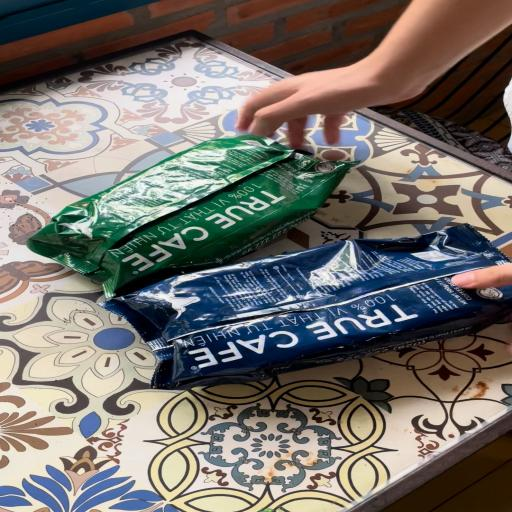cafe_hat: (101, 224, 512, 390)
cafe_xay: (27, 134, 358, 299)
